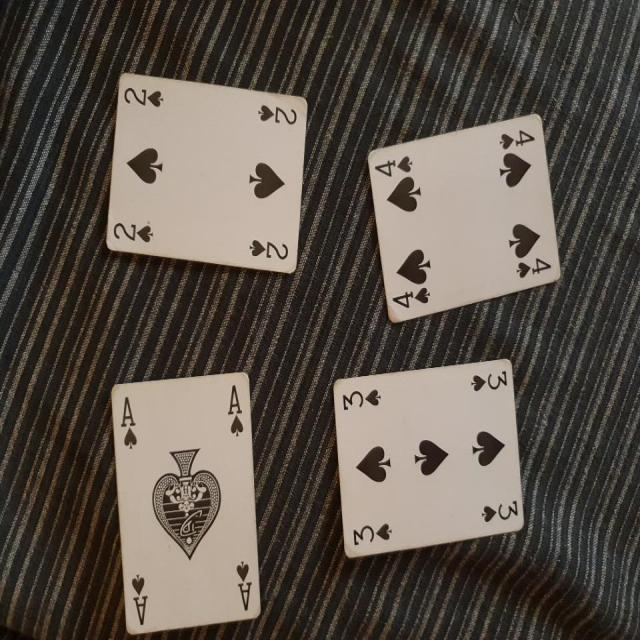2 Spades: (97, 59, 321, 302)
3 Spades: (325, 359, 537, 568)
4 Spades: (354, 104, 573, 333)
A Spades: (98, 369, 264, 640)
